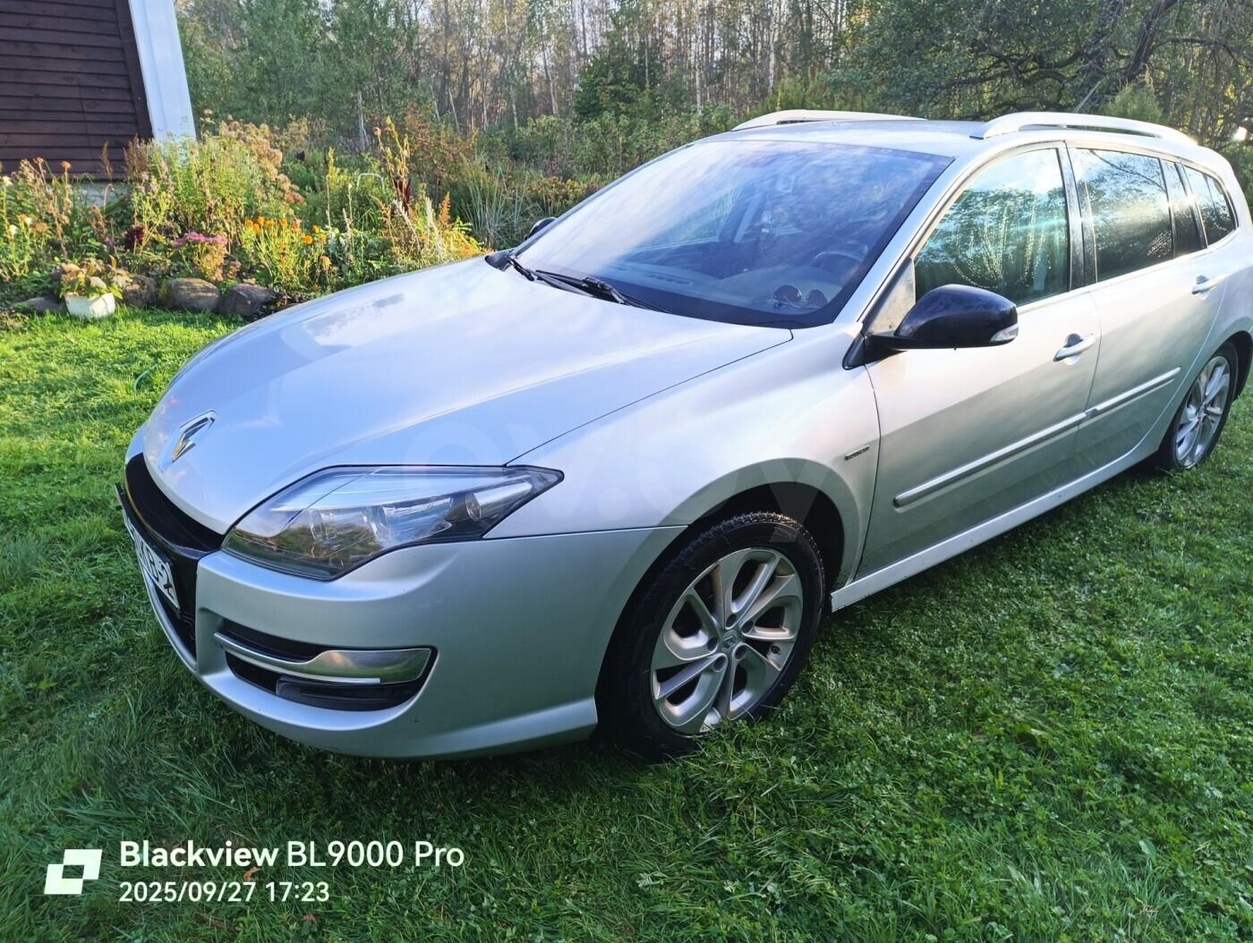Laguna_2010-2015: (110, 107, 1253, 778)
